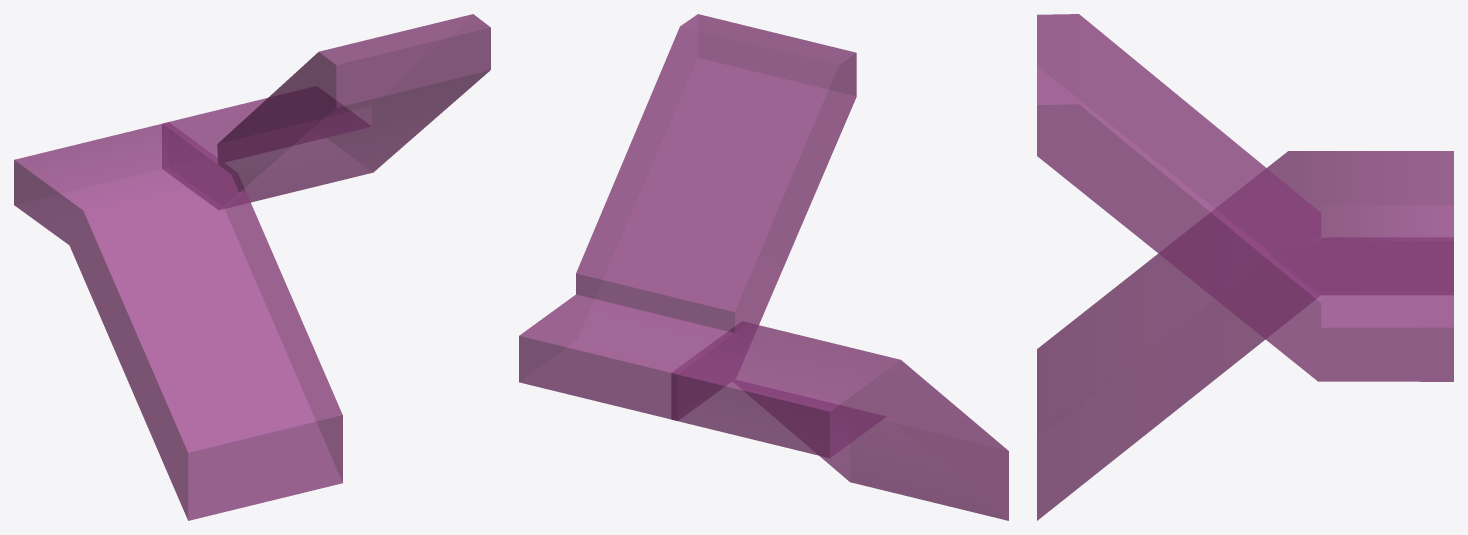
The model's file is SM_Bld_Base_Stairs_02_Collision.fbx.
3 views of the same model, side by side, from view 1: azimuth 30°, elevation 25°; view 2: azimuth 150°, elevation 25°; view 3: azimuth 270°, elevation 25° (orthographic). The views are drawn at different scales.
Parts seen in each view (by area): view 1: SM_Bld_Base_Stairs_02_Collision; view 2: SM_Bld_Base_Stairs_02_Collision; view 3: SM_Bld_Base_Stairs_02_Collision.
Boxes of the visible parts, x1,y1,x2,y2 form: SM_Bld_Base_Stairs_02_Collision: (14,14,490,520); SM_Bld_Base_Stairs_02_Collision: (519,14,1008,520); SM_Bld_Base_Stairs_02_Collision: (1037,14,1453,520).
Bounding box in the file's own units: 255 × 338 × 254.
